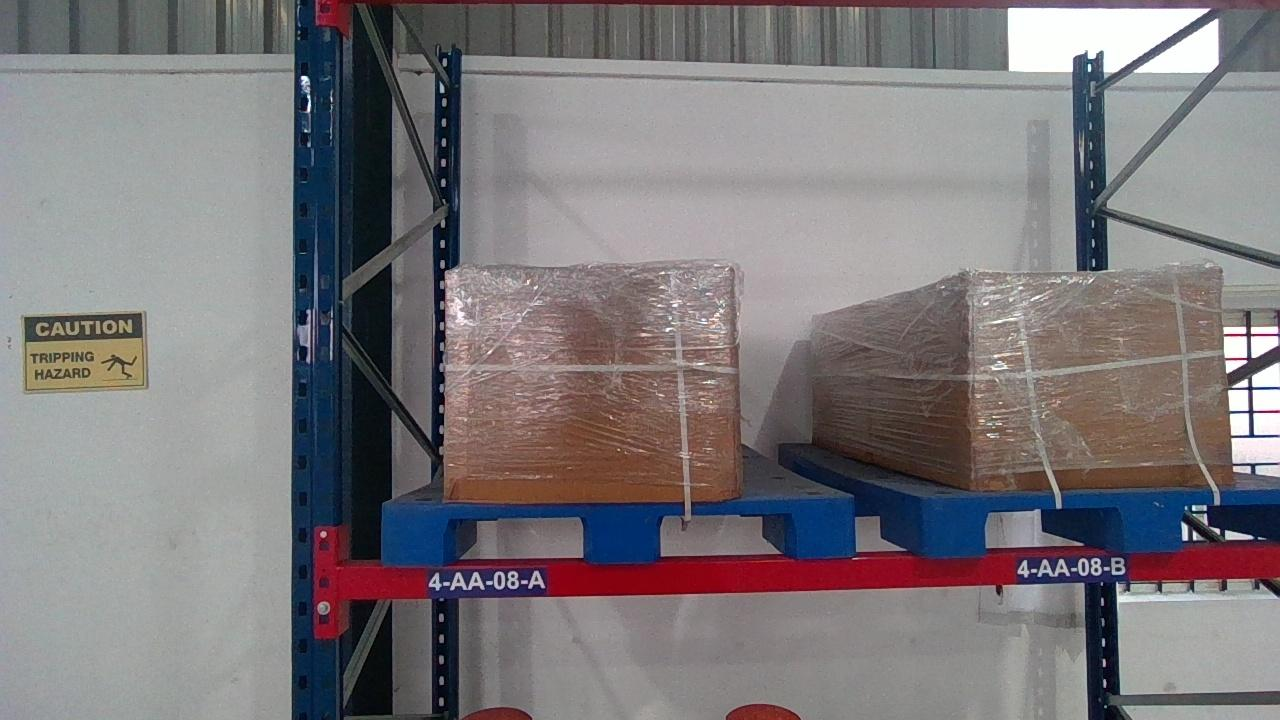h_rack: (339, 551, 1280, 587)
small_pallet: (377, 500, 858, 559), (922, 491, 1278, 550)
